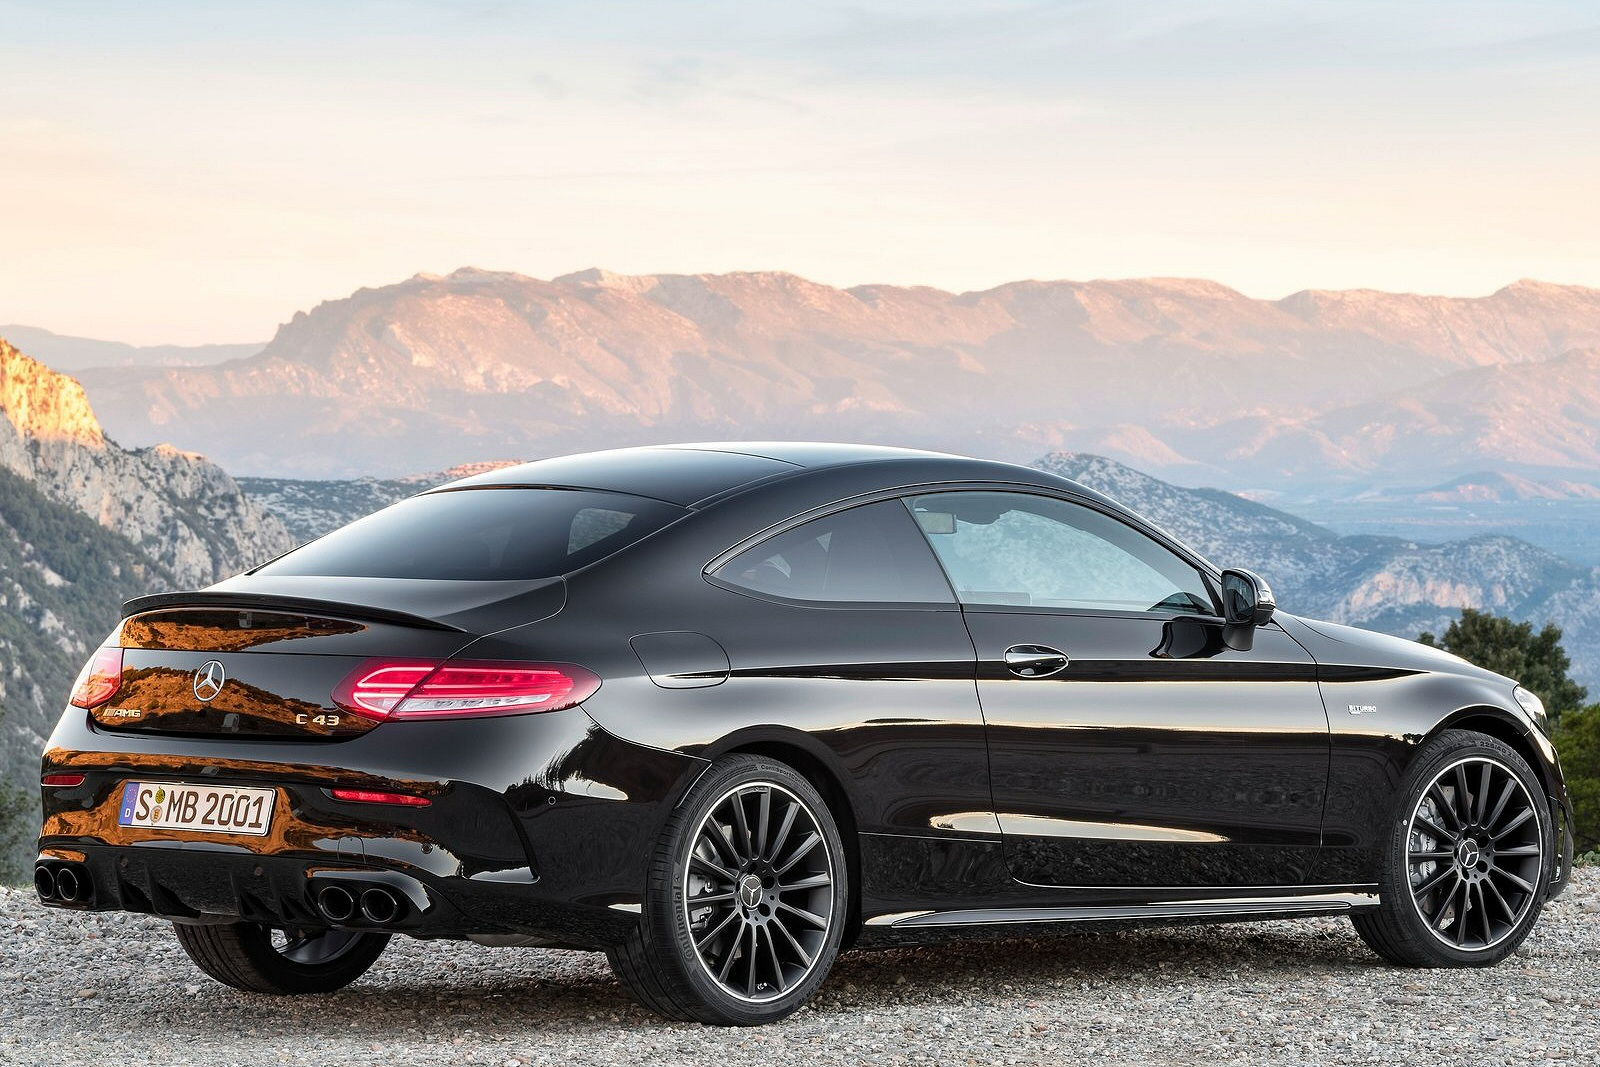cclass: (14, 423, 1598, 1046)
